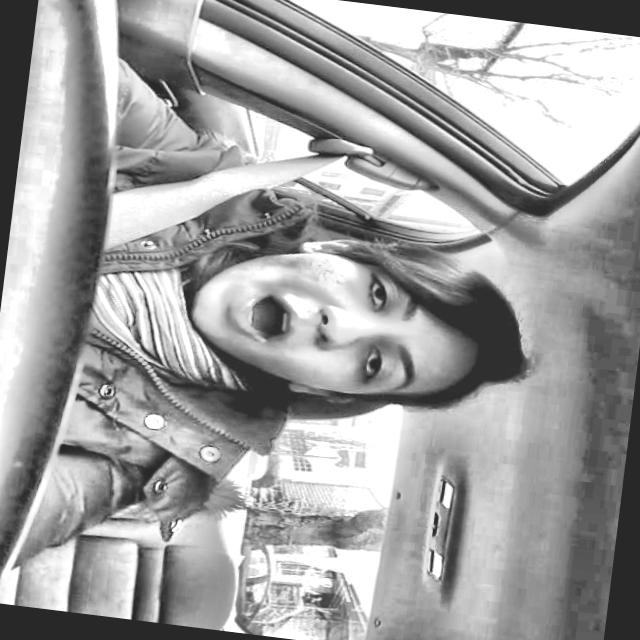open_eyes: (352, 258, 399, 322), (348, 339, 395, 395)
open_mouth: (218, 277, 310, 361)
